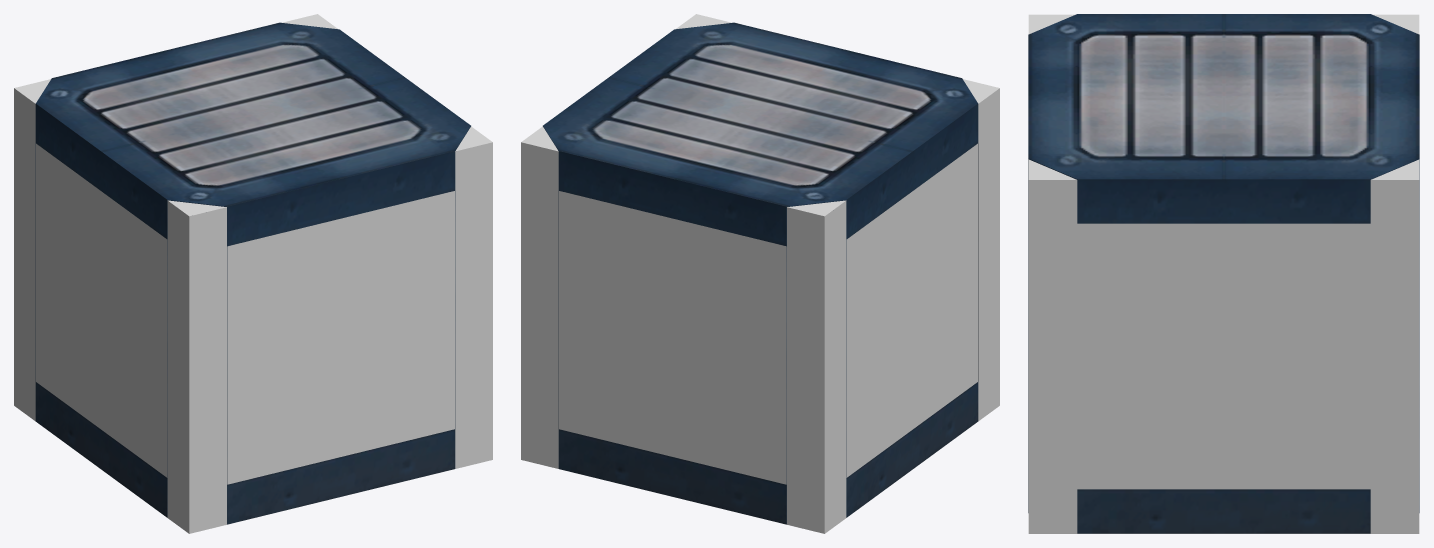
File: sol-crate-iron.glb
3 renders of one model, left to right at view 1: azimuth 30°, elevation 25°; view 2: azimuth 150°, elevation 25°; view 3: azimuth 270°, elevation 25°, orthographic. The views are drawn at different scales.
Parts seen in each view (by area): view 1: Sol-Crate-Iron.cmesh, Sol-Crate-Iron; view 2: Sol-Crate-Iron.cmesh, Sol-Crate-Iron; view 3: Sol-Crate-Iron.cmesh, Sol-Crate-Iron.
Boxes of the visible parts, <box> form: Sol-Crate-Iron.cmesh: <box>14,14,492,533</box>; Sol-Crate-Iron: <box>35,22,470,524</box>; Sol-Crate-Iron.cmesh: <box>521,14,999,533</box>; Sol-Crate-Iron: <box>543,22,978,524</box>; Sol-Crate-Iron.cmesh: <box>1028,14,1419,533</box>; Sol-Crate-Iron: <box>1028,14,1419,533</box>.
Bounding box in the file's own units: 1.77 × 1.77 × 1.77.
1 material, 1 textured.
